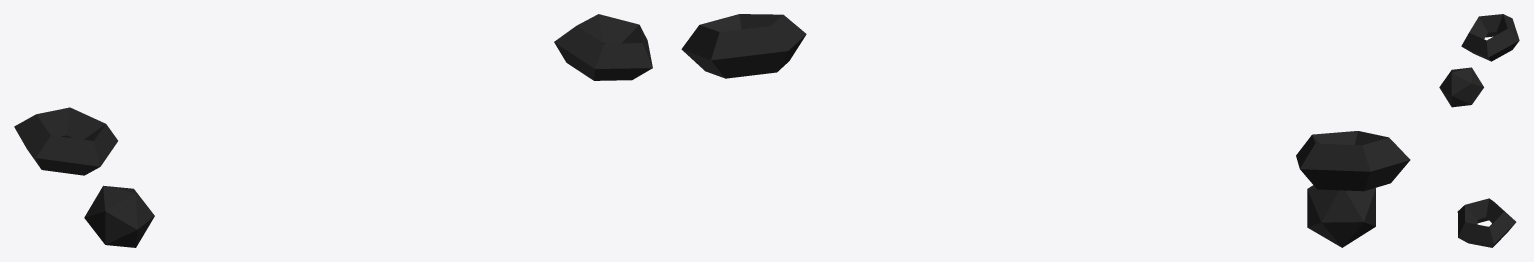
The model's file is SM_Chr_Attach_Earrings_Female_04.fbx.
The picture shows the model from 3 angles, left to right: view 1: azimuth 30°, elevation 25°; view 2: azimuth 150°, elevation 25°; view 3: azimuth 270°, elevation 25°; orthographic projection. The views are drawn at different scales.
Parts seen in each view (by area): view 1: SM_Chr_Attach_Earrings_Female_04; view 2: SM_Chr_Attach_Earrings_Female_04; view 3: SM_Chr_Attach_Earrings_Female_04.
Part boxes in pixels (x1,y1,x2,y2): SM_Chr_Attach_Earrings_Female_04: (14, 14, 652, 247); SM_Chr_Attach_Earrings_Female_04: (681, 14, 1410, 247); SM_Chr_Attach_Earrings_Female_04: (1439, 14, 1519, 247).
Size of the model in its own units: 31.04 by 5.62 by 5.45.
